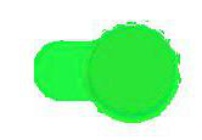Switch: (1, 1, 201, 139)
